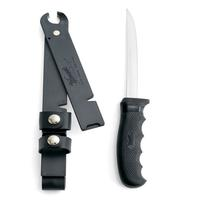knife: (116, 4, 153, 187)
